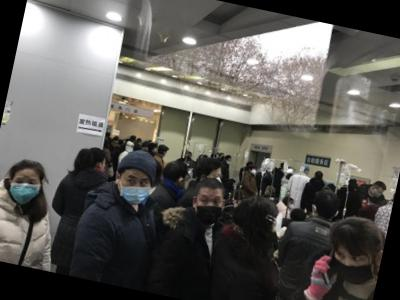with_mask: (326, 246, 377, 289), (116, 172, 154, 210), (6, 173, 44, 210), (193, 190, 225, 228), (371, 187, 385, 201), (153, 147, 161, 155), (251, 167, 257, 177), (289, 202, 295, 211), (227, 159, 233, 166)
without_mask: (111, 140, 119, 149)
